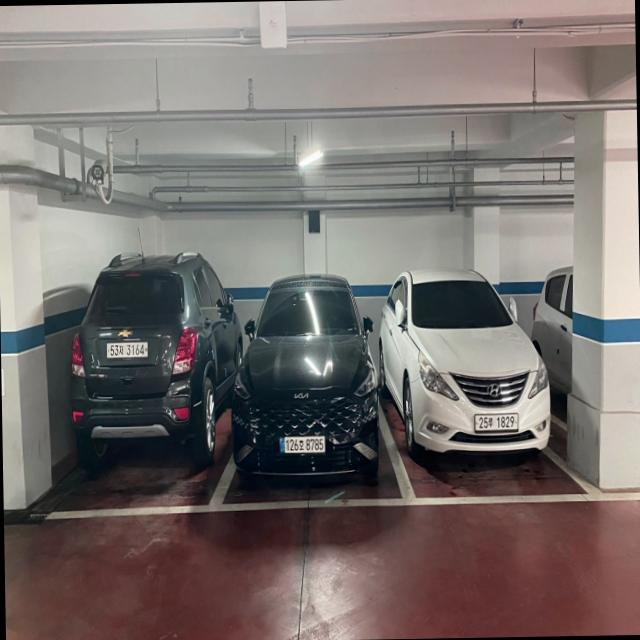car: (228, 270, 382, 480), (66, 252, 218, 454), (391, 274, 551, 456)
